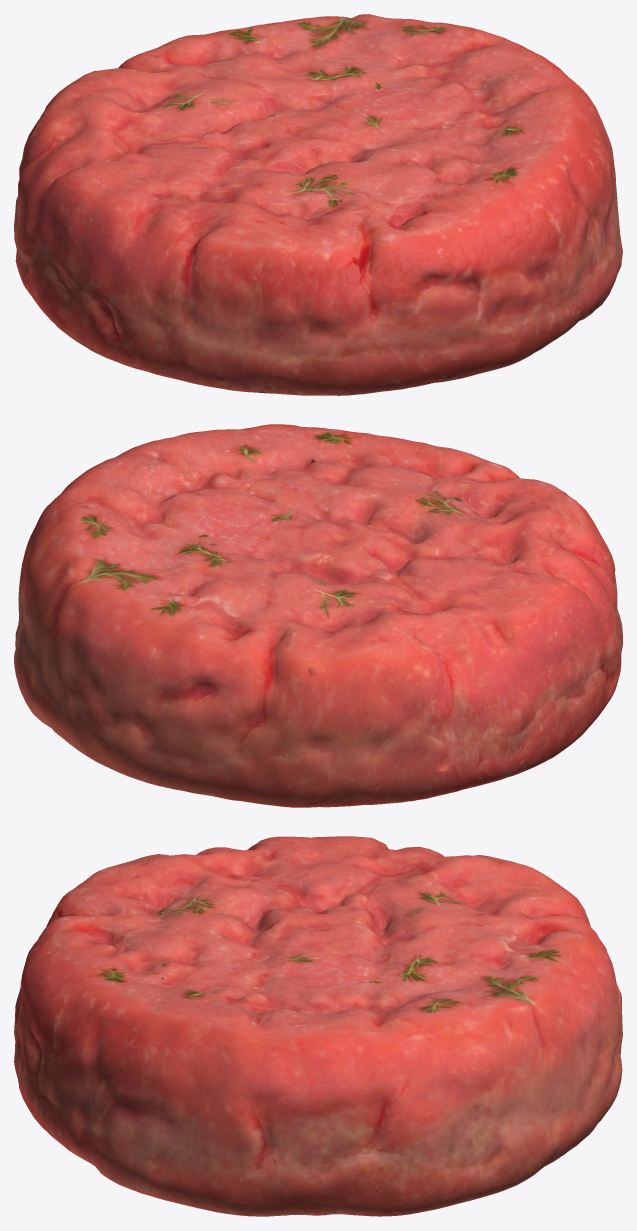
File: rawPatty.obj
3 renders of one model, top to bottom at view 1: azimuth 30°, elevation 25°; view 2: azimuth 150°, elevation 25°; view 3: azimuth 270°, elevation 25°, orthographic. The views are drawn at different scales.
Visible parts, largest first — view 1: mesh_0; view 2: mesh_0; view 3: mesh_0.
Part boxes in pixels (x1,y1,x2,y2): mesh_0: [14, 14, 622, 395]; mesh_0: [14, 424, 622, 807]; mesh_0: [14, 836, 622, 1216].
Size of the model in its own units: 1.99 by 0.7009 by 1.99.
